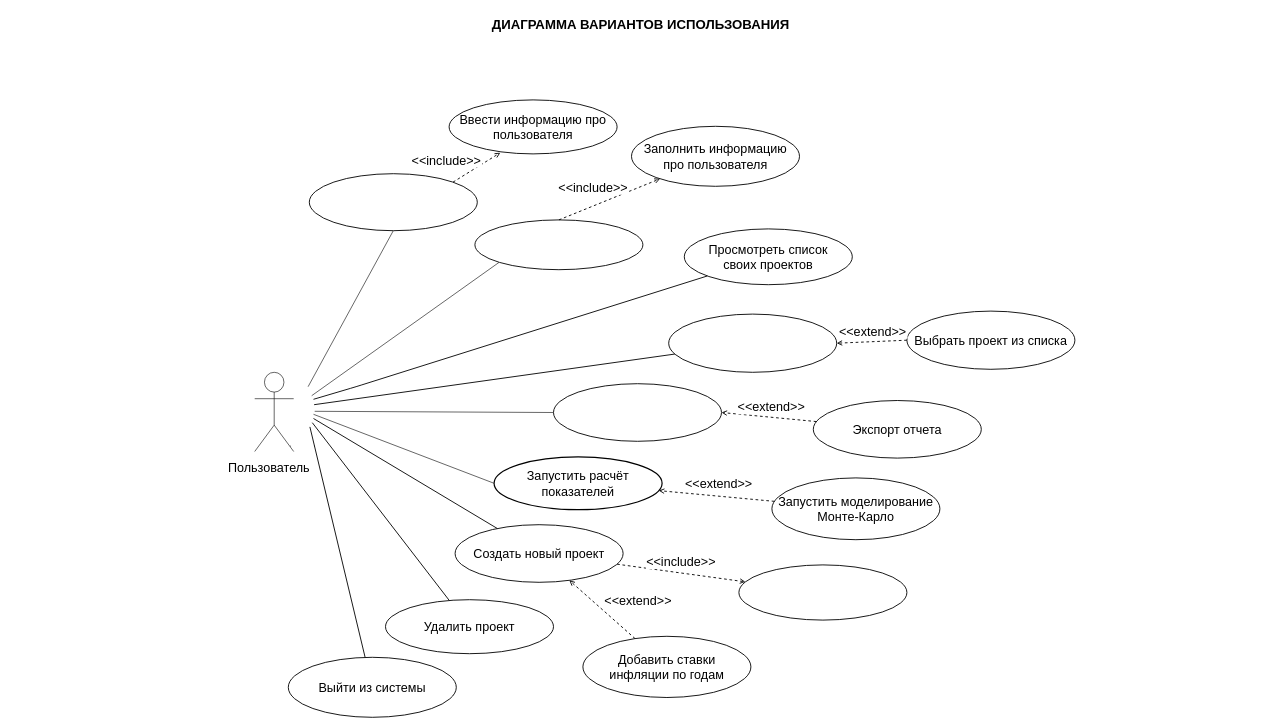
Some shapes in this 1280 by 728 pixel diagram are drawn without their labels. Here are the shapes that lost their labels. From the top down, the centre of each, then its label:
(393,202): Регистрация
(558,244): Авторизация
(752,342): Редактировать проект
(637,412): Просмотреть графики результатов
(822,592): Заполнить информацию про проект
